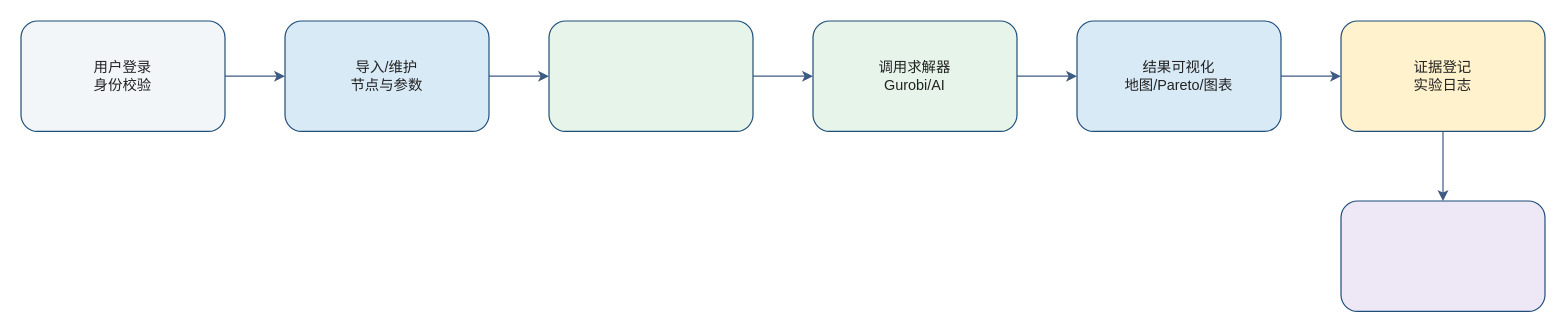
This 1566x332 diagram has some shape labels left out. Here are the shapes that lost their labels. From the top down, the box of each, then its label:
(548, 20, 753, 131): 配置场景 设施数/价格/时限
(1340, 200, 1545, 311): 报告导出 决策归档
